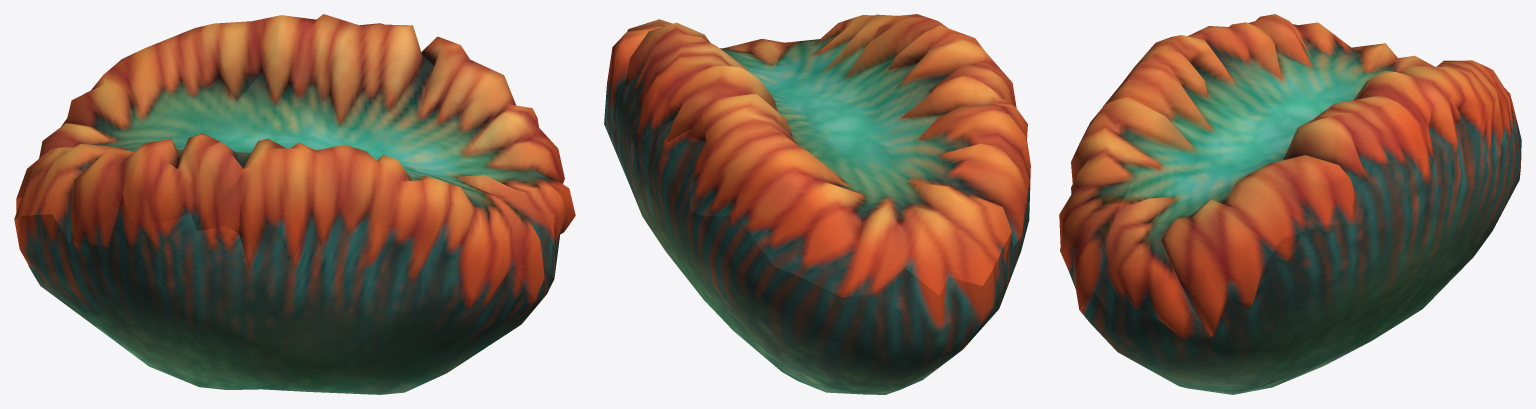
File: Coral11.fbx
The picture shows the model from 3 angles, left to right: view 1: azimuth 30°, elevation 25°; view 2: azimuth 150°, elevation 25°; view 3: azimuth 270°, elevation 25°; orthographic projection. The views are drawn at different scales.
Parts seen in each view (by area): view 1: Coral6_1; view 2: Coral6_1; view 3: Coral6_1.
Part boxes in pixels (x1,y1,x2,y2): Coral6_1: (14, 14, 575, 394); Coral6_1: (604, 14, 1030, 394); Coral6_1: (1059, 14, 1521, 394).
Bounding box in the file's own units: 86.43 × 57.32 × 77.28.
